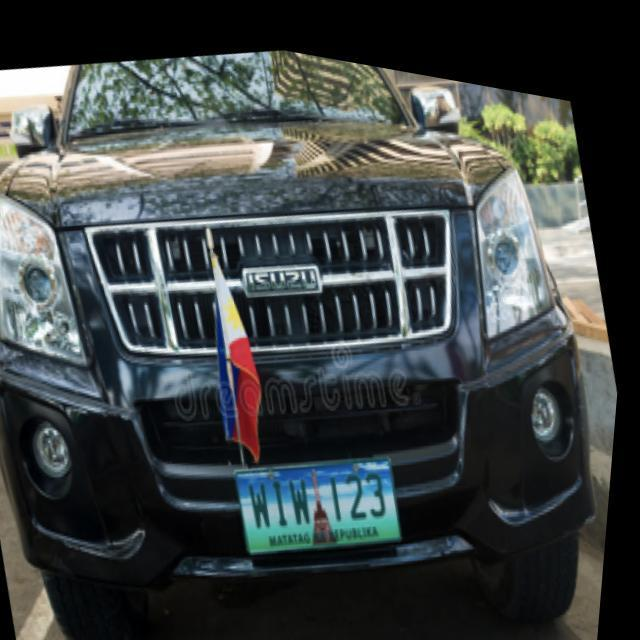license_plate: (234, 420, 419, 566)
